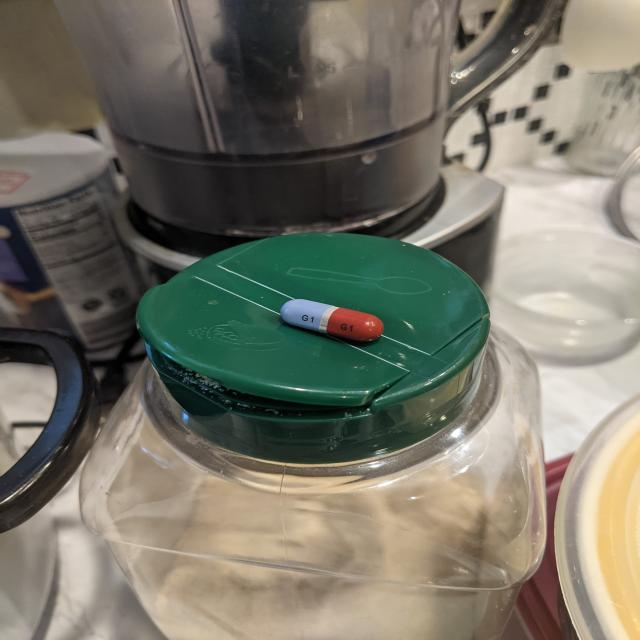non-organic waste: (279, 298, 385, 343)
